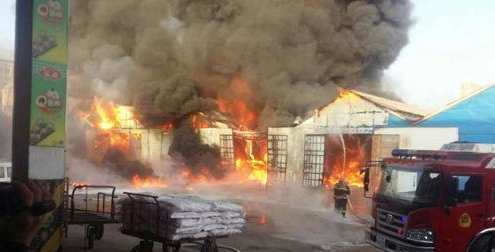喷灌水雾: (327, 120, 346, 148)
